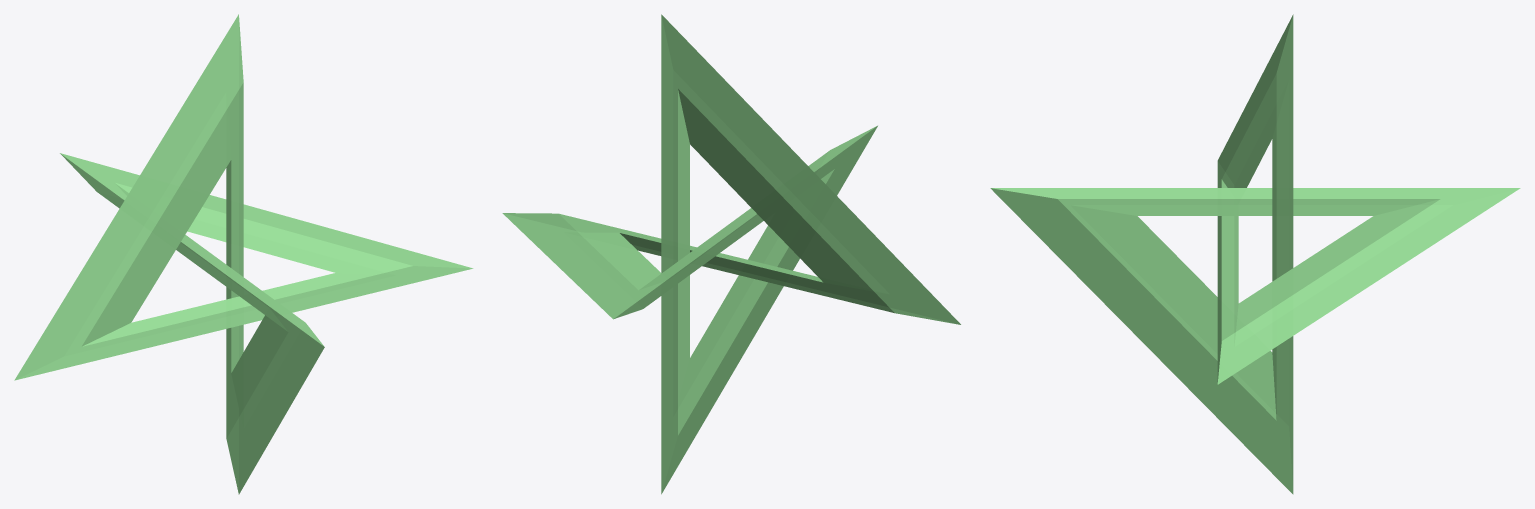
The model's file is HexagonalToroid_J.obj.
3 renders of one model, left to right at view 1: azimuth 30°, elevation 25°; view 2: azimuth 150°, elevation 25°; view 3: azimuth 270°, elevation 25°, orthographic.
Bounding box in the file's own units: 12.6 × 12.6 × 12.6.
